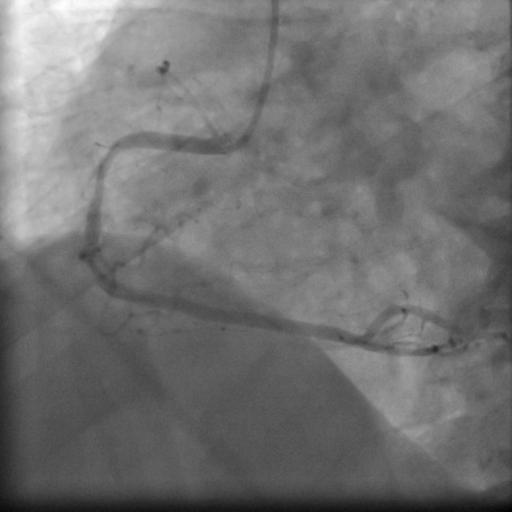Stenosis: (81, 141, 110, 272)
